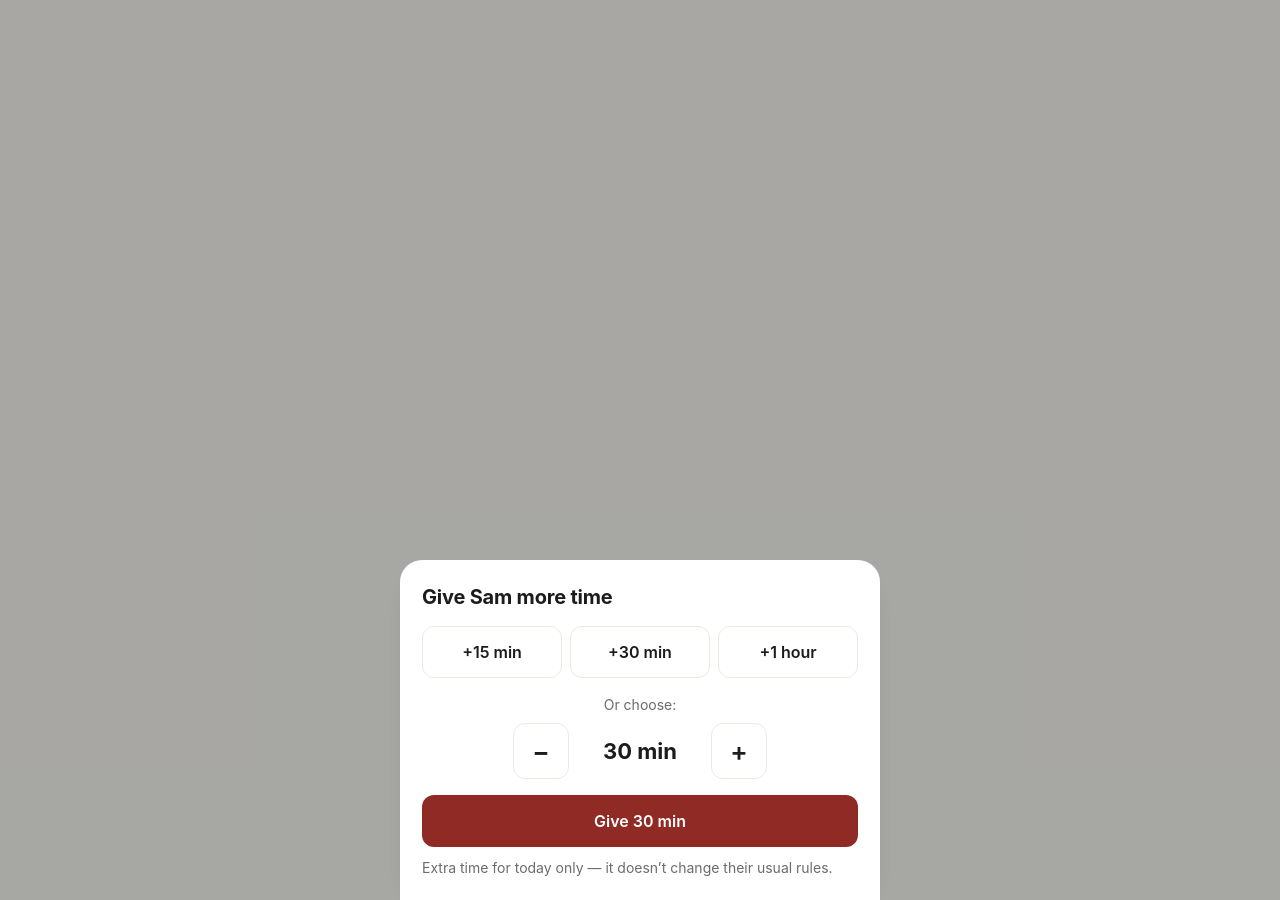
Test: LeverSheet › give › says to turn on parent approval, and stays open, when nothing was signed
Click the button "+15 min" at {"x": 492, "y": 652}, box 422,626 -> 562,678
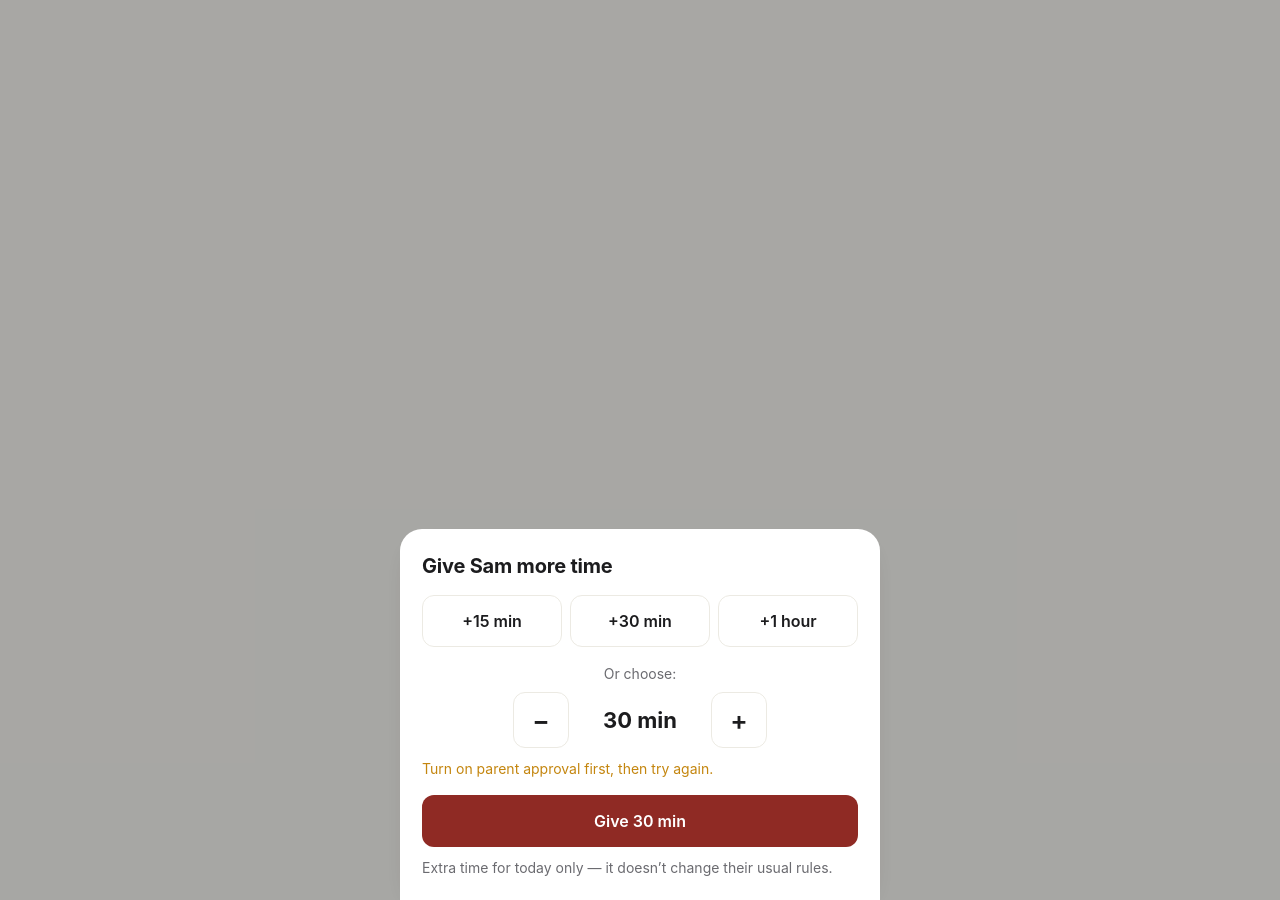
Check: the message "Turn on parent approval first, then try again." is shown, box 422,760 -> 713,777
